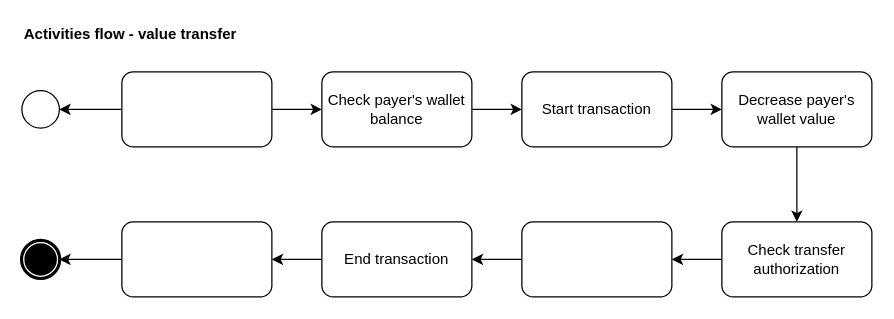
Some shapes in this 894 by 319 pixel diagram are drawn without their labels. The shapes that lost their labels are listed below. From the top down, each one's centre as x and y in pixels, then its label:
the point at 196,109: Transfer value
the point at 196,259: Notify payee that received value
the point at 596,259: Add payee's wallet value
